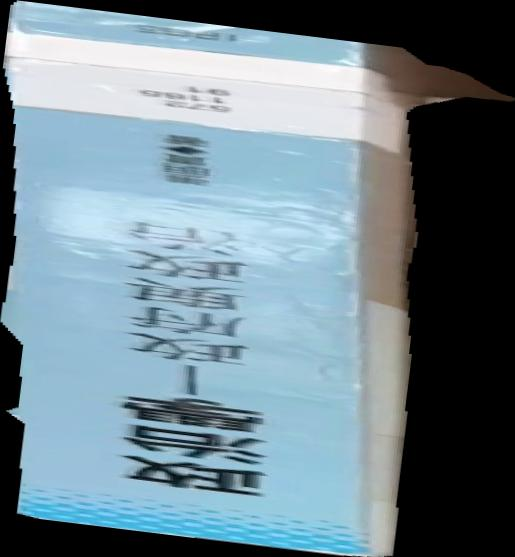reverse: (1, 1, 515, 557)
